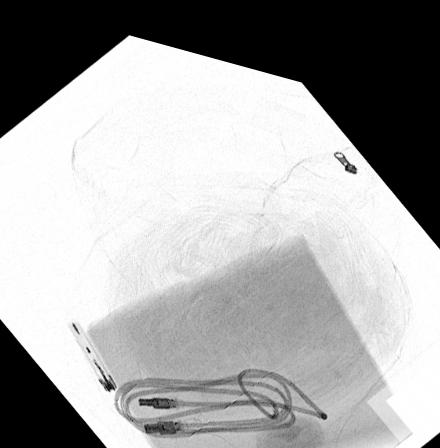Lighter: (67, 314, 118, 387)
